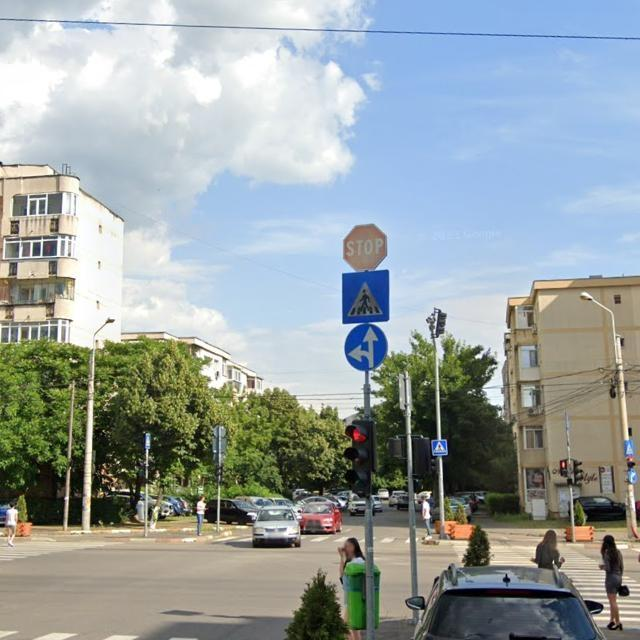info_crosswalk: (339, 275, 394, 326), (432, 439, 449, 456)
prio_stop: (339, 220, 389, 271)
